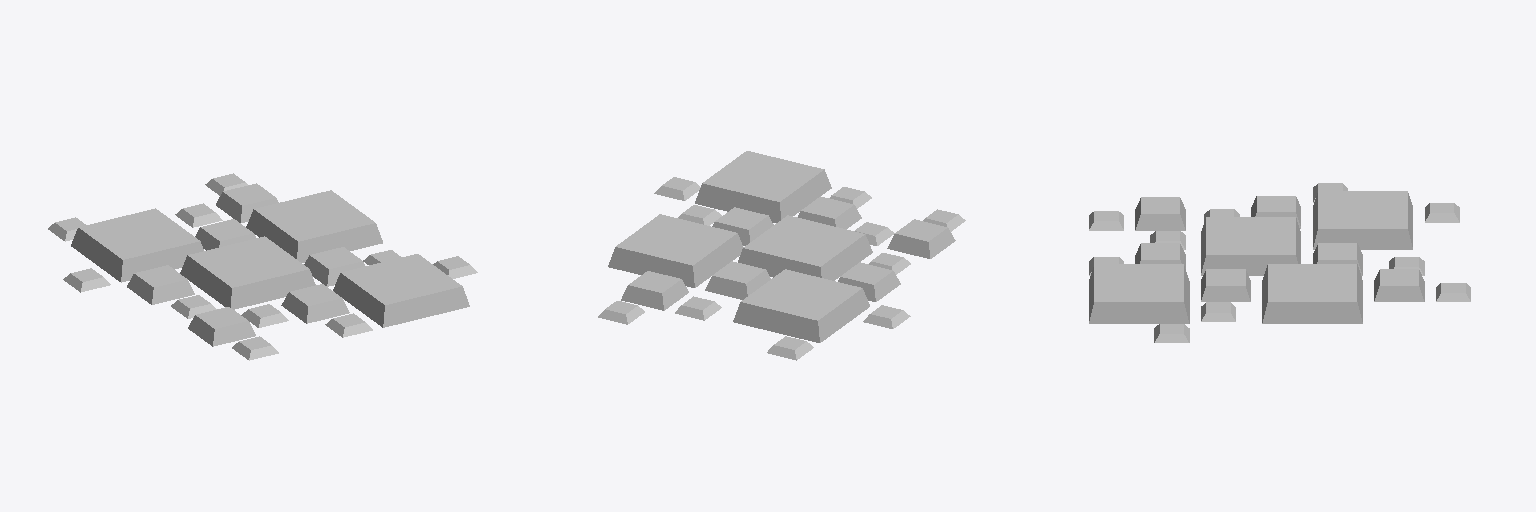
Rendered from road.obj.
3 renders of one model, left to right at view 1: azimuth 30°, elevation 25°; view 2: azimuth 150°, elevation 25°; view 3: azimuth 270°, elevation 25°, orthographic.
Visible parts, largest first — view 1: road; view 2: road; view 3: road.
Boxes of the visible parts, box(x1,y1,x2,y2) form: road: box(48, 173, 477, 360); road: box(598, 151, 965, 360); road: box(1089, 183, 1470, 342).
Bounding box in the file's own units: 0.7407 × 0.0433 × 0.7708.